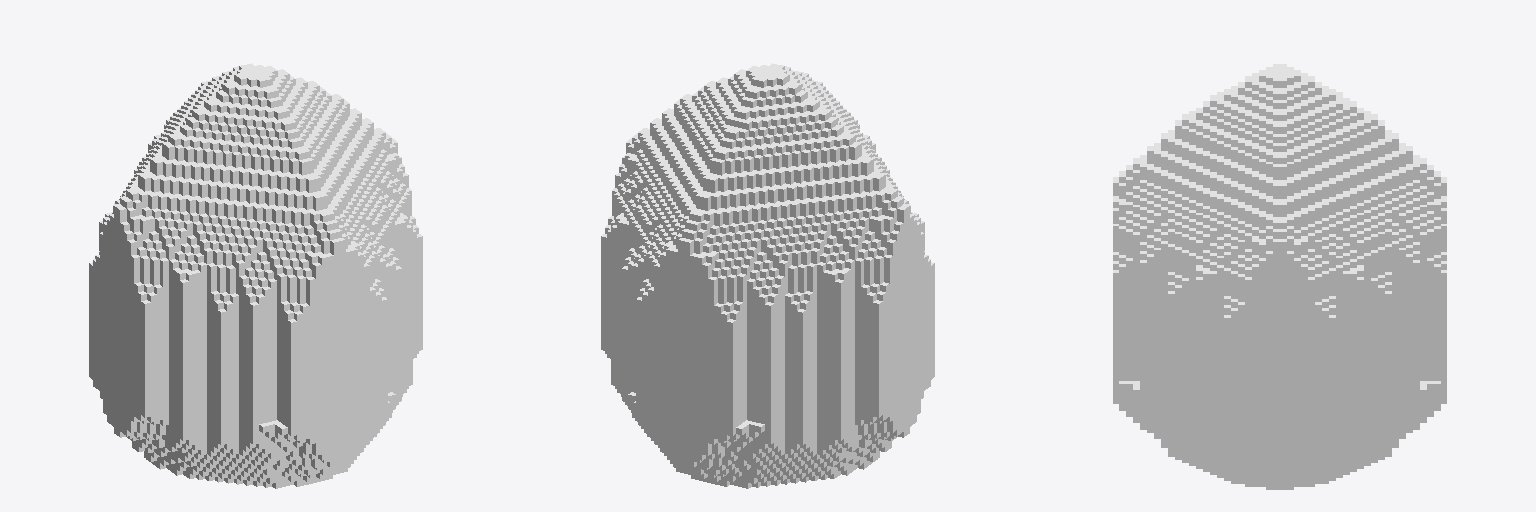
Rendered from egg1.obj.
3 renders of one model, left to right at view 1: azimuth 30°, elevation 25°; view 2: azimuth 150°, elevation 25°; view 3: azimuth 270°, elevation 25°, orthographic.
Parts seen in each view (by area): view 1: object 1; view 2: object 1; view 3: object 1.
Boxes of the visible parts, <box> form: object 1: <box>89,63,422,488</box>; object 1: <box>601,63,934,488</box>; object 1: <box>1113,64,1446,489</box>.
Size of the model in its own units: 4.6 by 5.8 by 4.8.